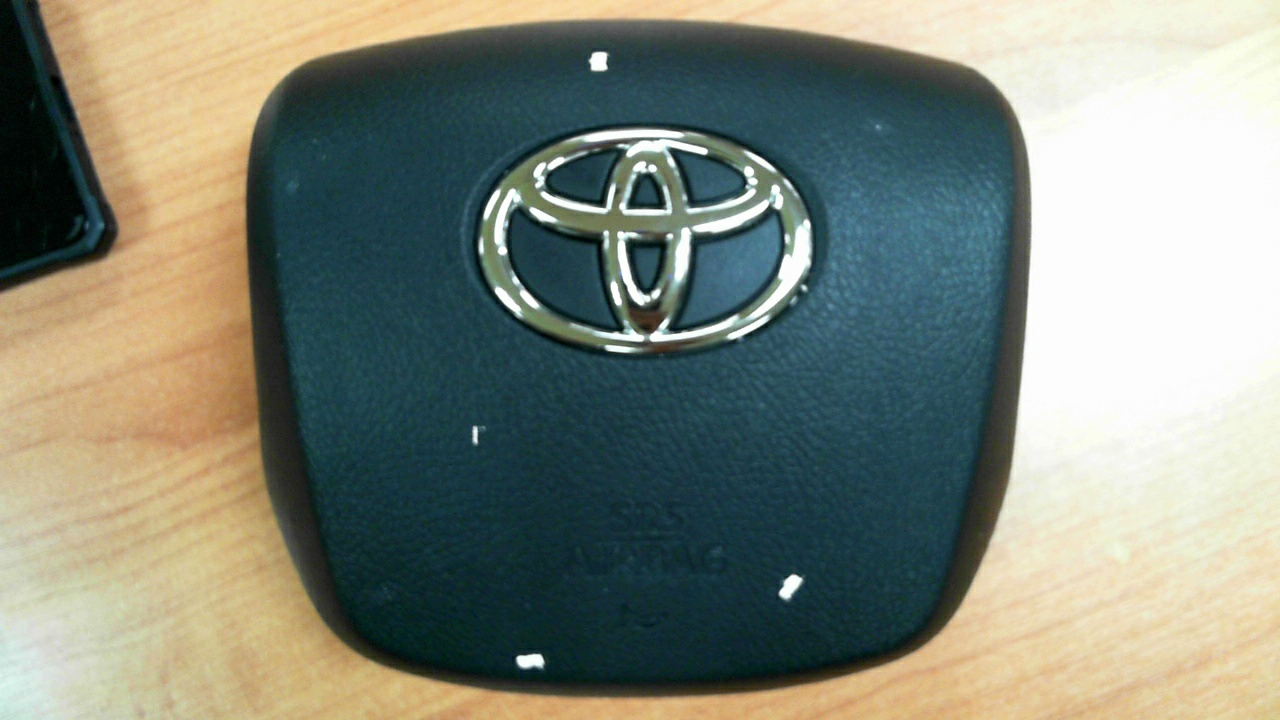Airbag: (251, 17, 1035, 695)
Mark: (778, 573, 803, 601), (515, 652, 544, 669), (588, 51, 610, 72), (471, 425, 479, 446), (876, 125, 881, 129)
